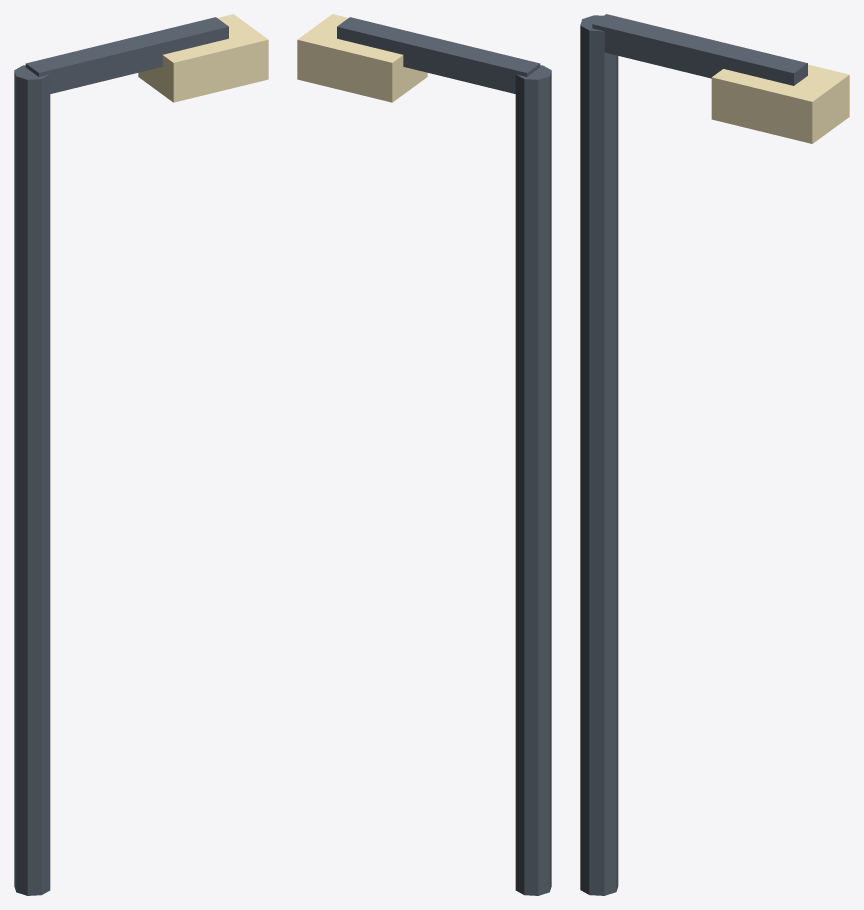
Rendered from prop_lampu.fbx.
The picture shows the model from 3 angles, left to right: view 1: azimuth 30°, elevation 25°; view 2: azimuth 150°, elevation 25°; view 3: azimuth 330°, elevation 25°; orthographic projection. The views are drawn at different scales.
Visible parts, largest first — view 1: prop_lampu; view 2: prop_lampu; view 3: prop_lampu.
Part boxes in pixels (x1,y1,x2,y2): prop_lampu: (14, 14, 268, 895); prop_lampu: (297, 14, 551, 895); prop_lampu: (580, 14, 849, 895).
Bounding box in the file's own units: 124 × 412 × 32.
Materials: 1 (1 with a texture image).
